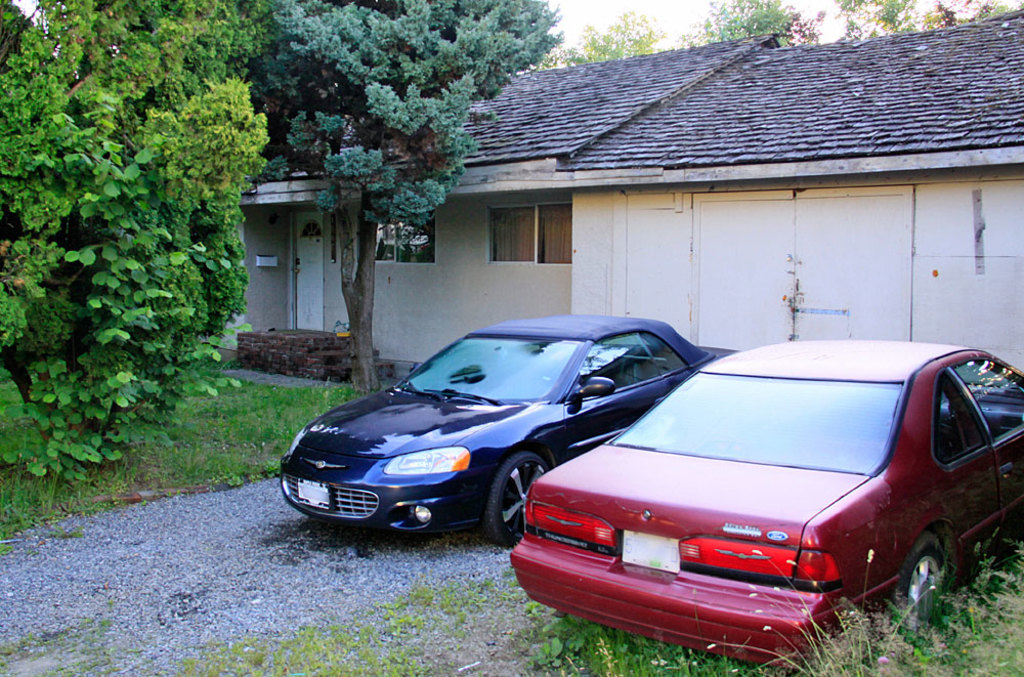Car: (508, 334, 1022, 673), (278, 309, 736, 554)
